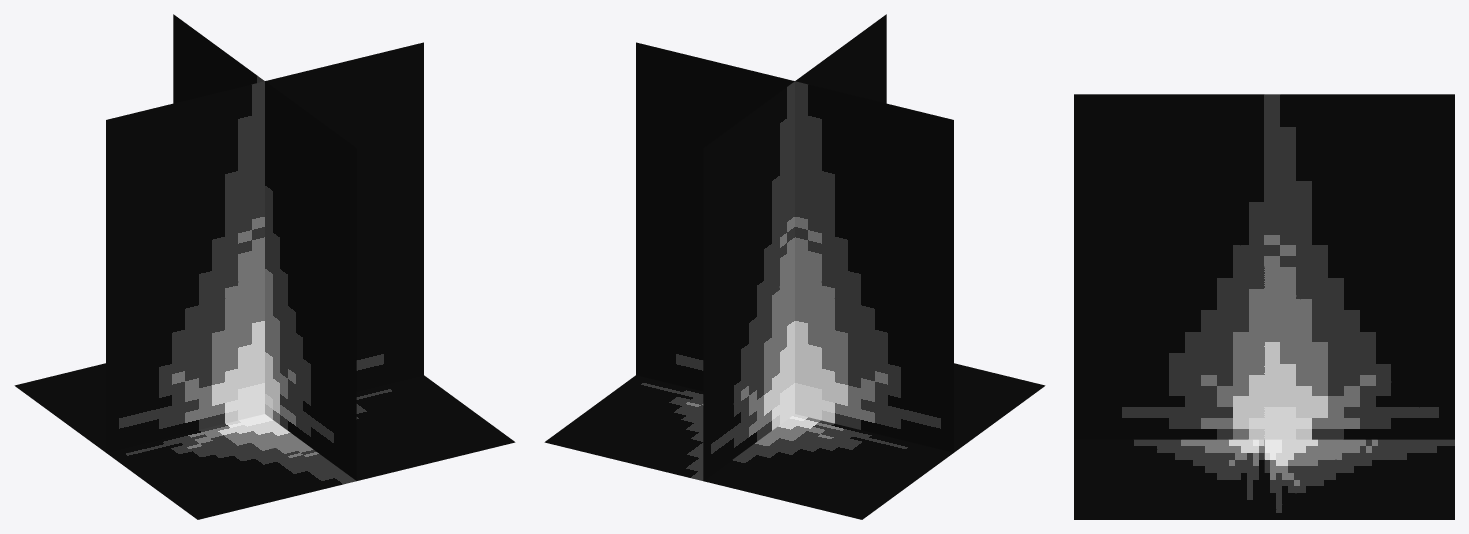
File: muzzle1.glb
The picture shows the model from 3 angles, left to right: view 1: azimuth 30°, elevation 25°; view 2: azimuth 150°, elevation 25°; view 3: azimuth 270°, elevation 25°; orthographic projection. The views are drawn at different scales.
Visible parts, largest first — view 1: Cube; view 2: Cube; view 3: Cube.
Boxes of the visible parts, bbox=[...] form: Cube: bbox=[14, 14, 515, 519]; Cube: bbox=[544, 14, 1045, 519]; Cube: bbox=[1074, 94, 1454, 519].
Bounding box in the file's own units: 2 × 2 × 2.
Materials: 1 (1 with a texture image).
